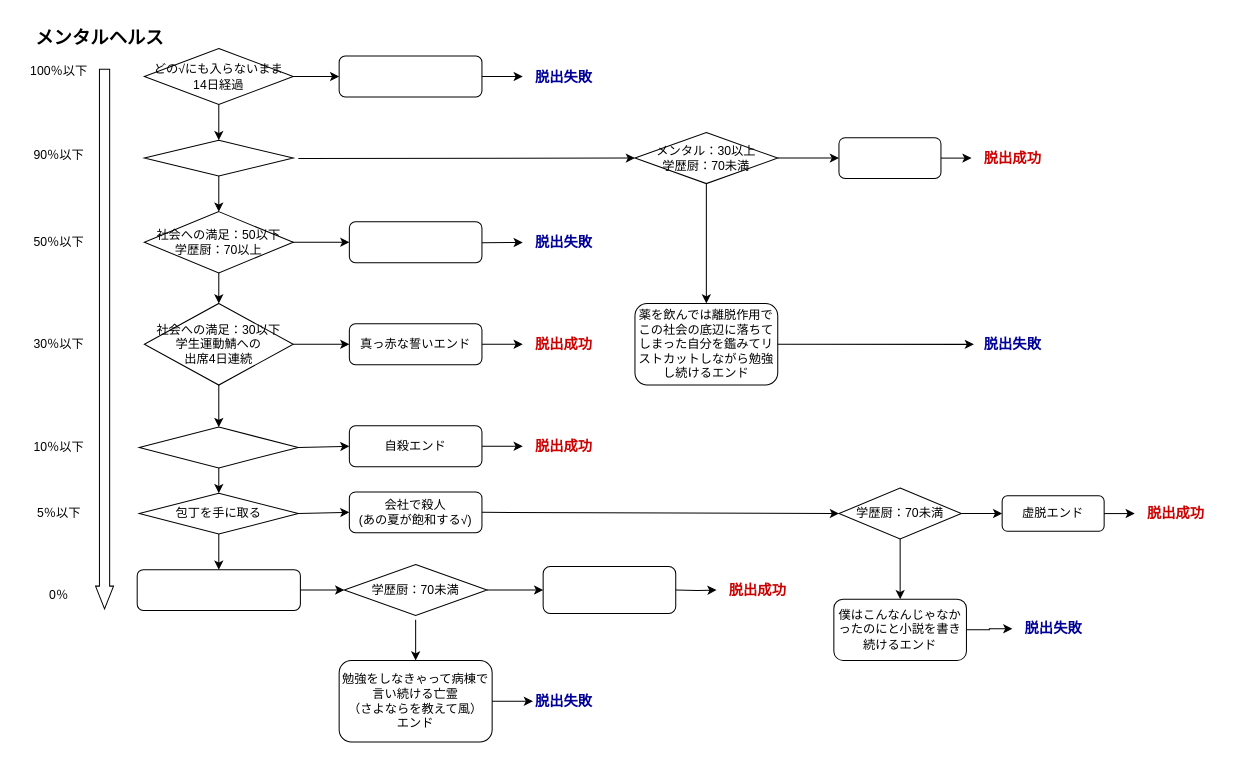
The diagram is 1233 pixels wide and 760 high, and some of its shapes have lost their labels. The shapes that lost their labels are listed below. From the top down, each one's centre as x and y in pixels, then its label:
At (410,76): "競争社会の奴隷 エンド".
At (218,157): "7日連続でODする".
At (889,157): "幻覚エンド".
At (415,242): "学歴の暴力エンド".
At (218,447): "縄を手に取る".
At (218,589): "緊急搬送√".
At (609,590): "生きてるだけでえらい エンド".
